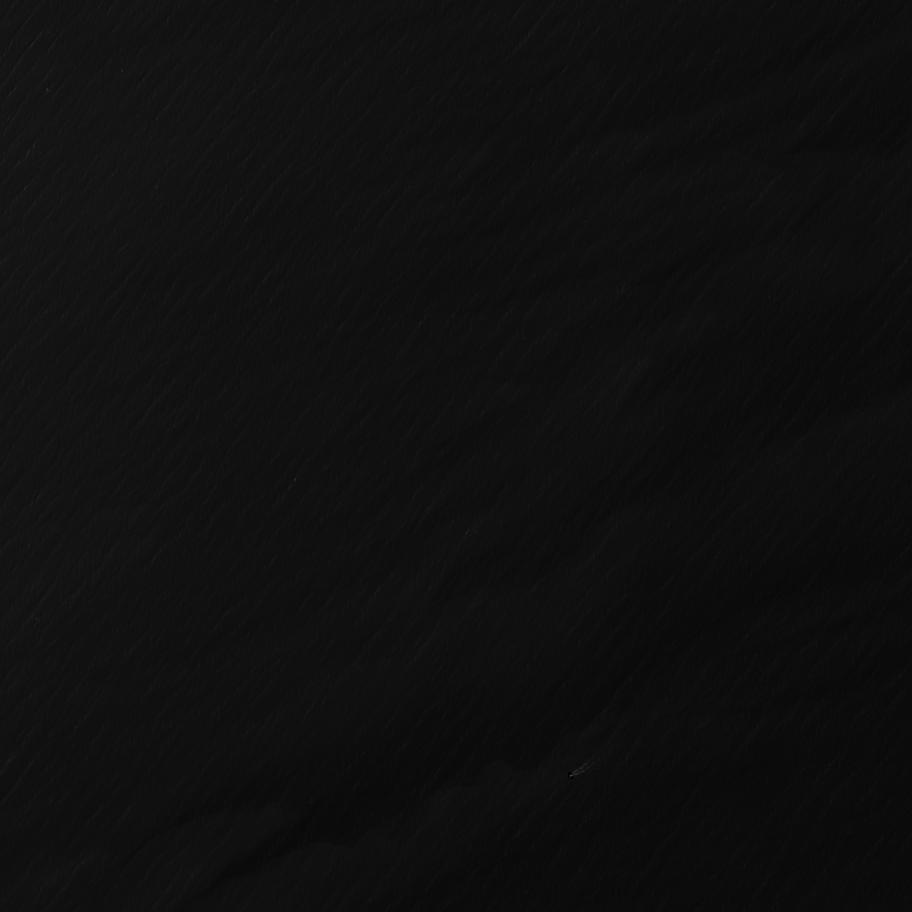ship: (568, 773, 574, 780)
